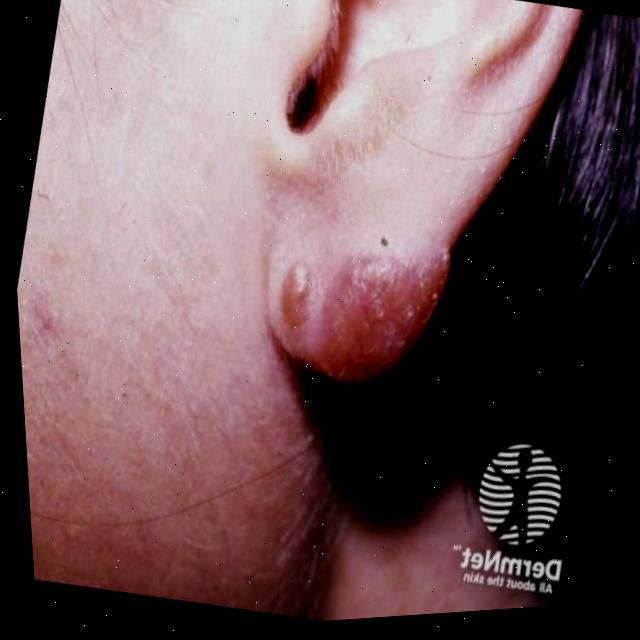lupus-detected: (93, 135, 514, 587)
